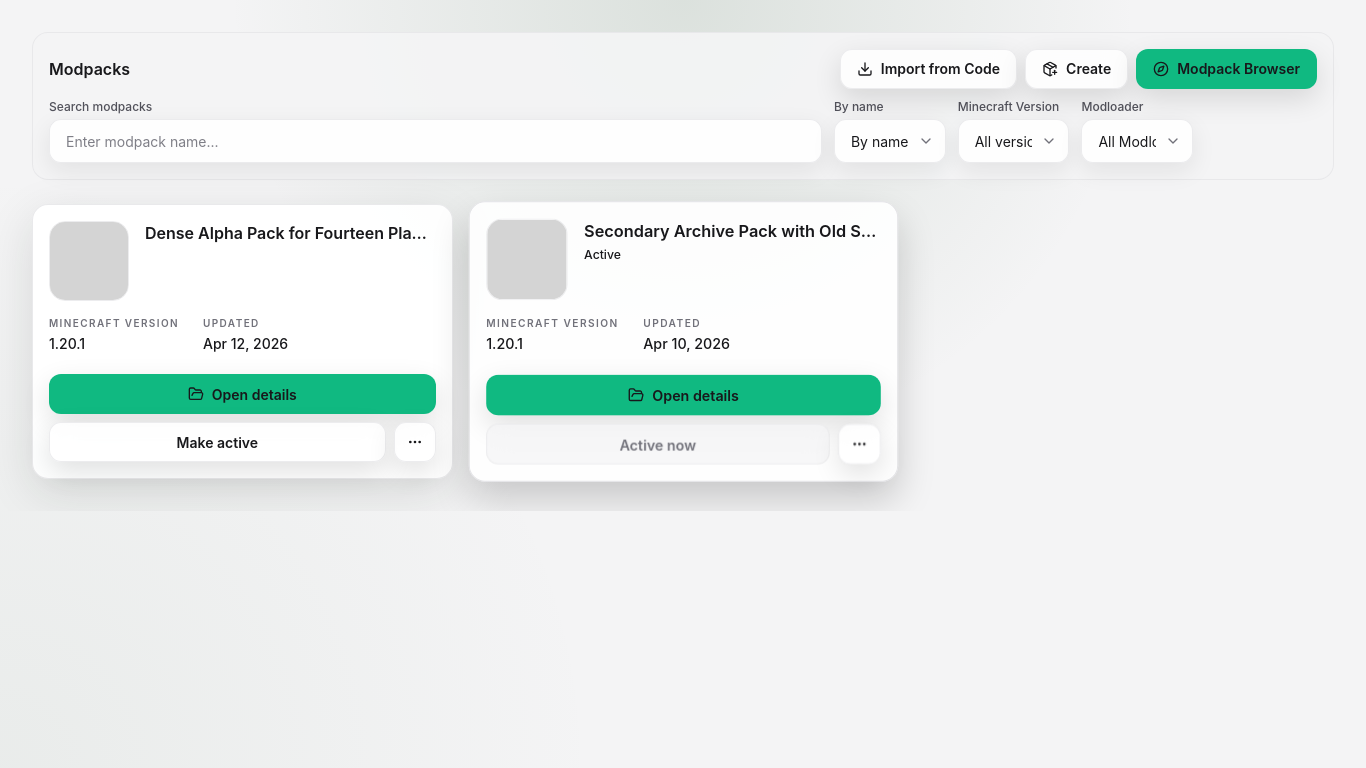
Modpack catalog density › keeps installed summaries, metadata blocks, and action ownership readable under dense filters
Expected: the heading "Dense Alpha Pack for Fourteen Players and Three Runtime Profiles" is shown, [145,221,436,245]
Type "Dense" into the field labelled "Enter modpack name...".
click(435, 141); type("Dense")  # box [49,119,822,163]
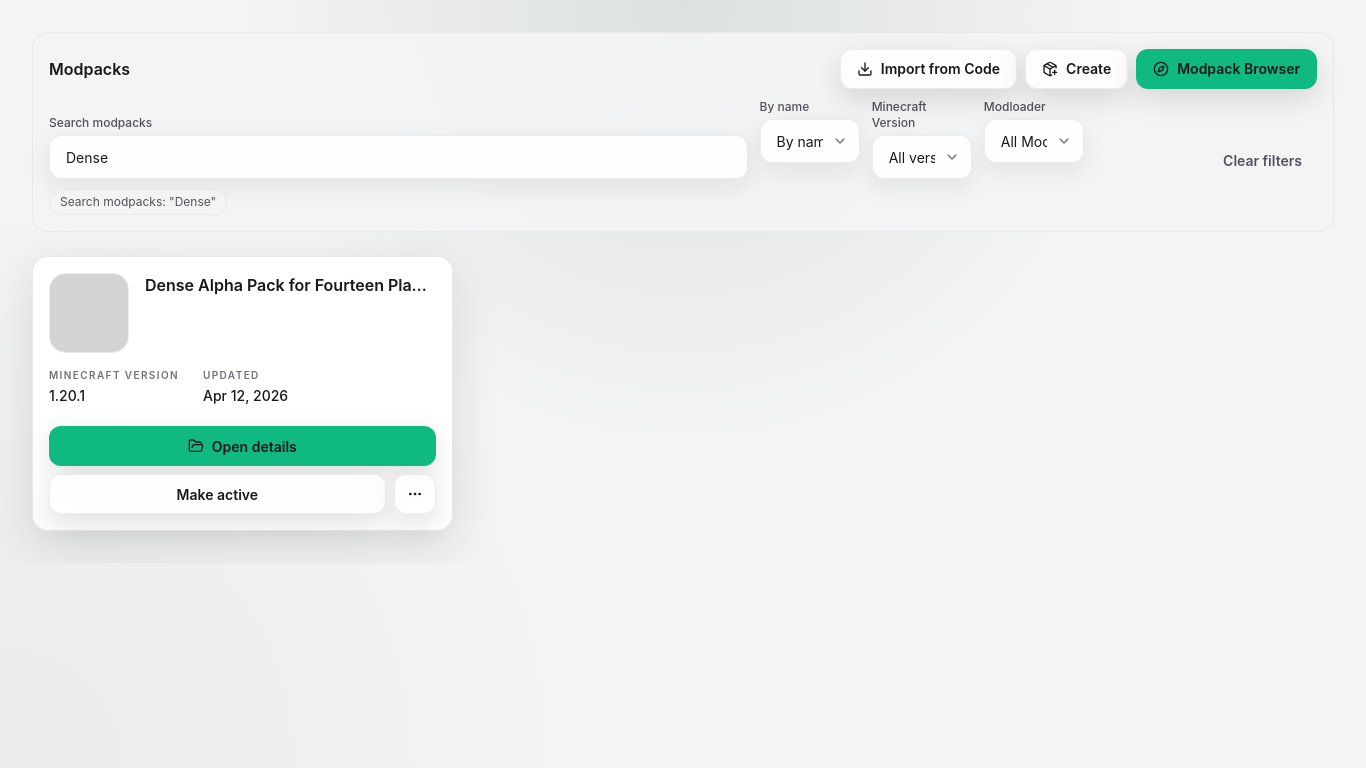
Select "1.20.1" in the dropdown named "All versions" at (922, 157), box [872,135,972,179]
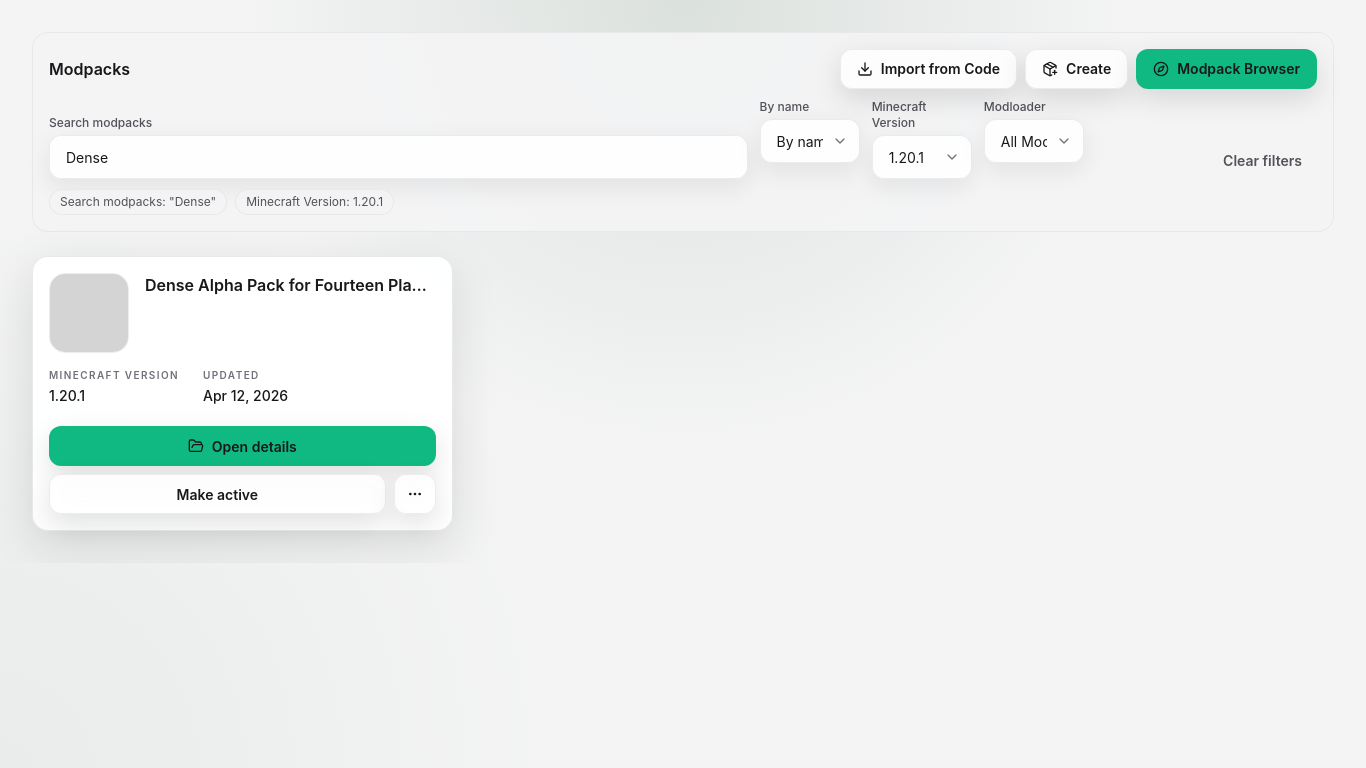
Select "Fabric" in the dropdown named "All Modloaders" at (1034, 141), box [984,119,1084,163]
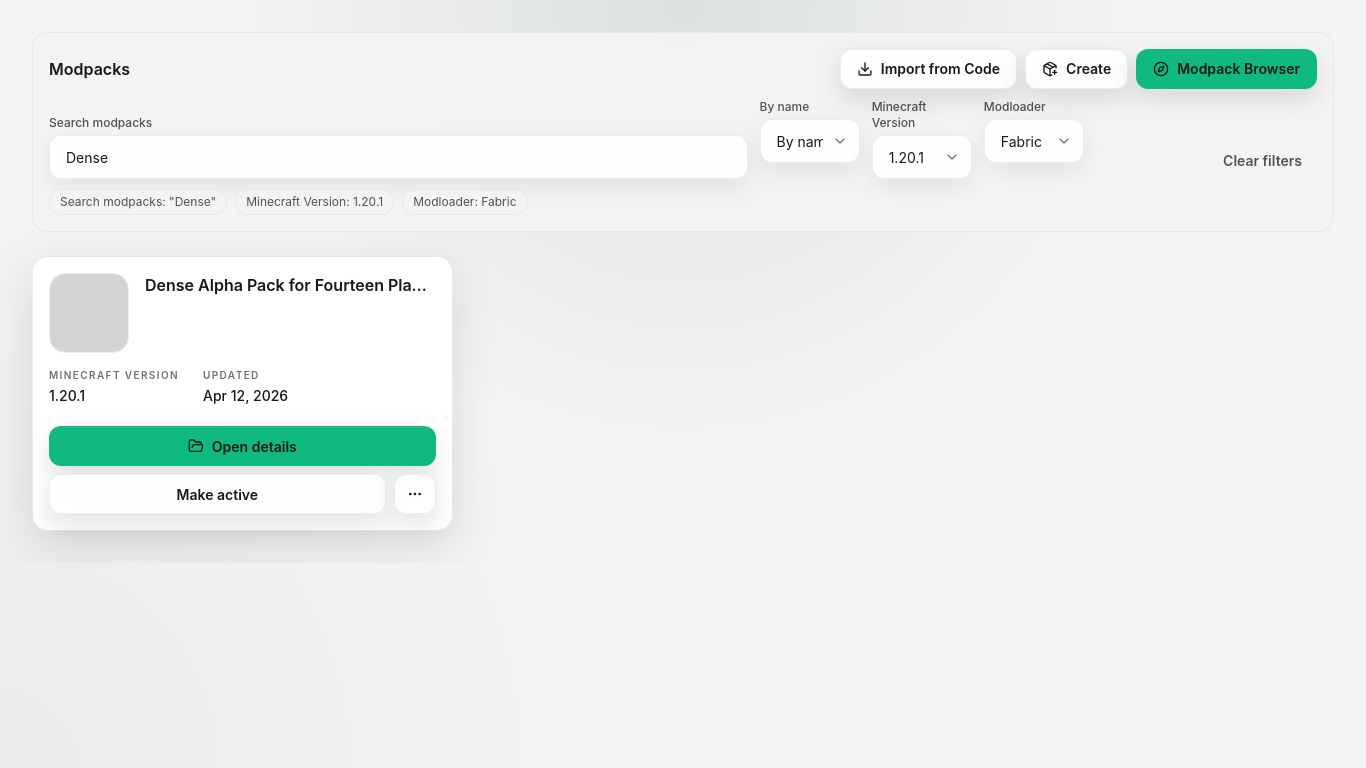
Expected: the text "Search modpacks: \"Dense\"" is shown, [49,189,227,215]
Expected: the text "Minecraft Version: 1.20.1" is shown, [235,189,394,215]
Expected: the text "Modloader: Fabric" is shown, [402,189,528,215]
